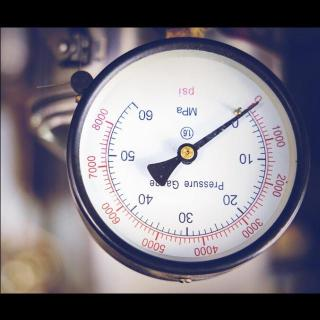gauge: (58, 28, 314, 292), (239, 89, 265, 119), (123, 94, 147, 118), (175, 142, 197, 164), (248, 96, 262, 110)
